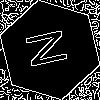N: (25, 25, 78, 71)
